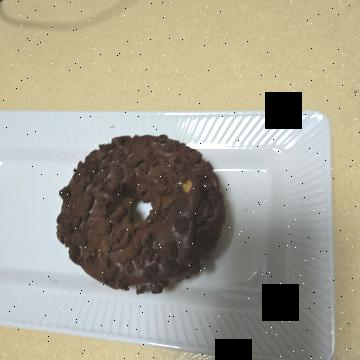doughnut: (109, 128, 288, 320)
